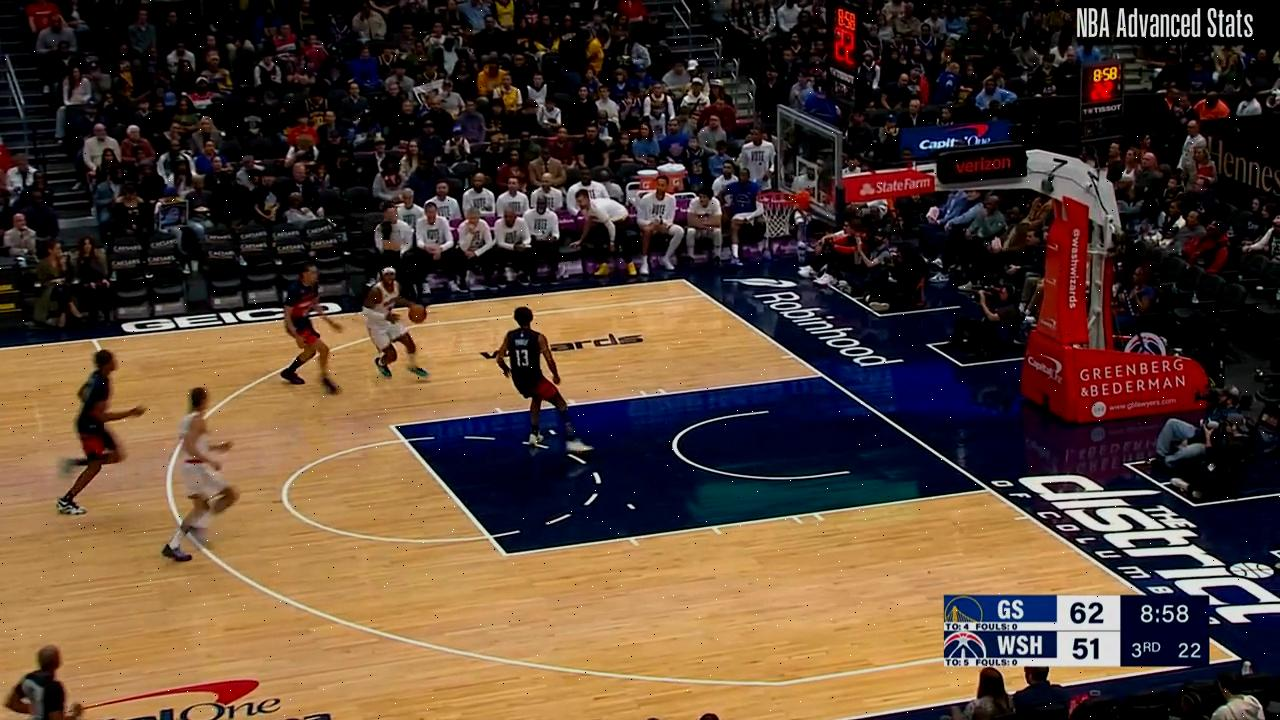basketball: (407, 305, 429, 324)
